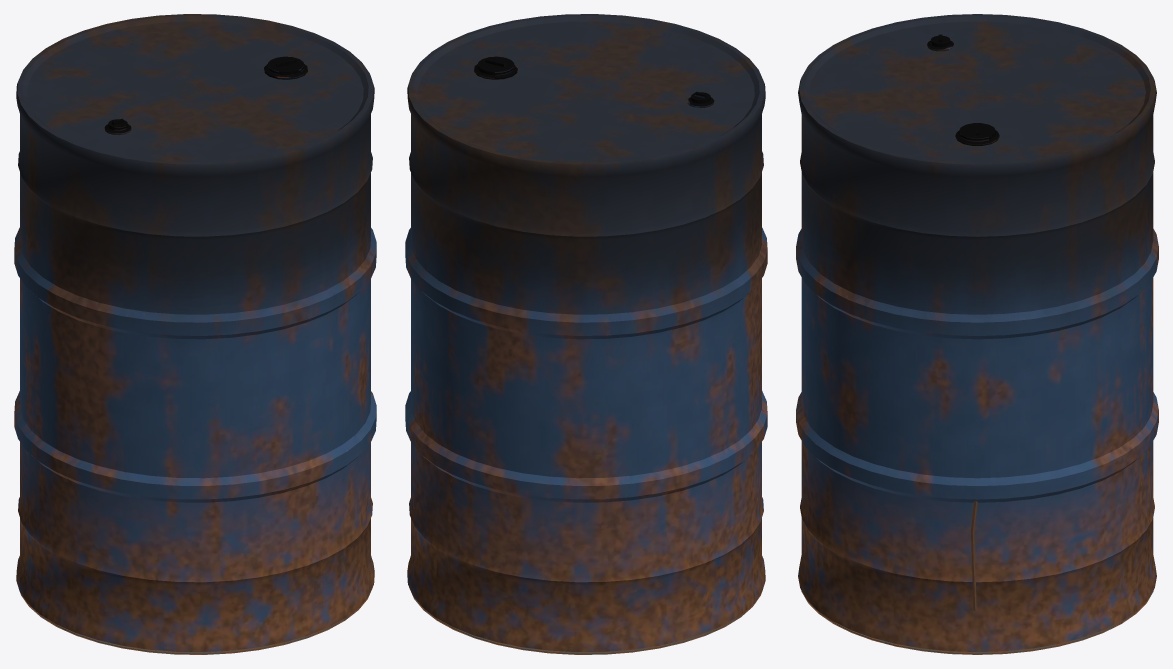
Rendered from tambor_200l.glb.
The picture shows the model from 3 angles, left to right: view 1: azimuth 30°, elevation 25°; view 2: azimuth 150°, elevation 25°; view 3: azimuth 270°, elevation 25°; orthographic projection.
Visible parts, largest first — view 1: tambor; view 2: tambor; view 3: tambor.
Boxes of the visible parts, x1,y1,x2,y2 form: tambor: (14,14,376,654); tambor: (405,14,767,654); tambor: (796,14,1158,654).
Size of the model in its own units: 0.59 by 0.8905 by 0.59.
1 material, 1 textured.
